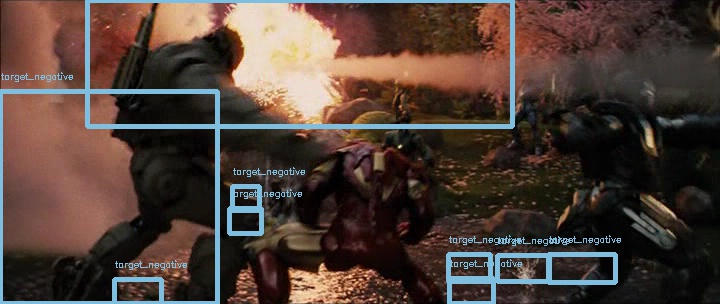person: (351, 139, 393, 176), (350, 139, 392, 176), (352, 139, 394, 176), (351, 138, 393, 175), (351, 140, 393, 177)
target_negative: (180, 6, 671, 134), (428, 93, 614, 256), (316, 123, 616, 184), (17, 260, 402, 288), (494, 273, 676, 275), (476, 270, 512, 274)
